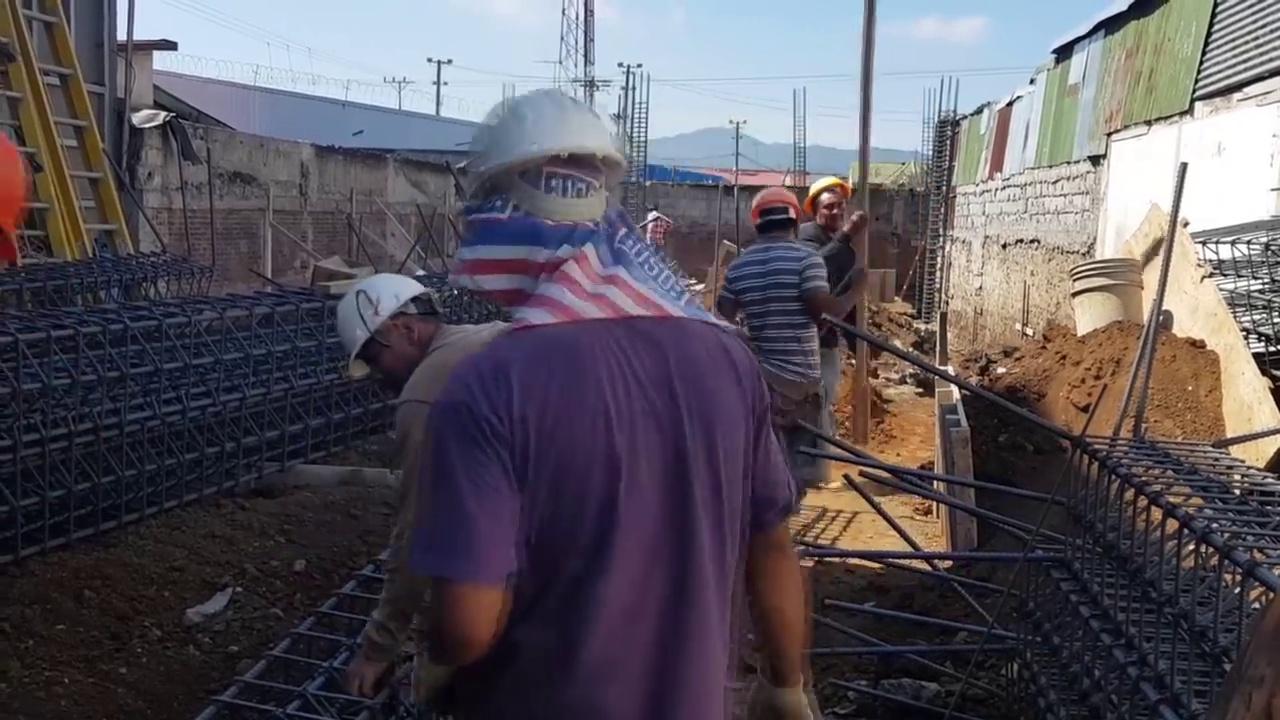helmet: (447, 78, 639, 218), (331, 270, 435, 384), (748, 184, 806, 235), (808, 177, 855, 212)
helmet-off: (644, 200, 658, 216)
helmet-on: (450, 70, 631, 298), (334, 273, 452, 382), (747, 184, 807, 244), (808, 171, 856, 240)
person: (448, 83, 823, 720), (312, 246, 518, 689), (717, 174, 867, 469), (805, 173, 866, 449), (645, 203, 669, 255)
